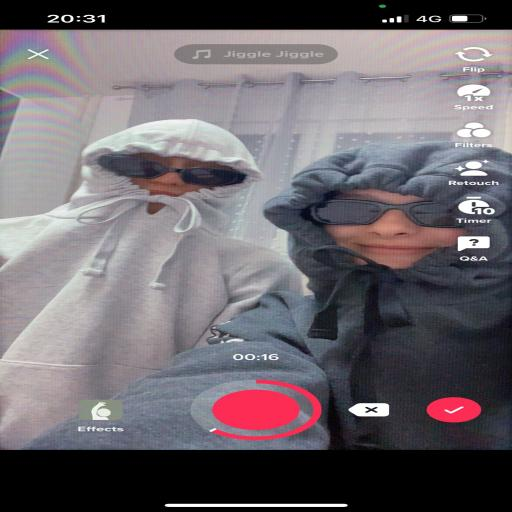marija: (305, 177, 464, 271)
masa: (114, 148, 242, 210)
